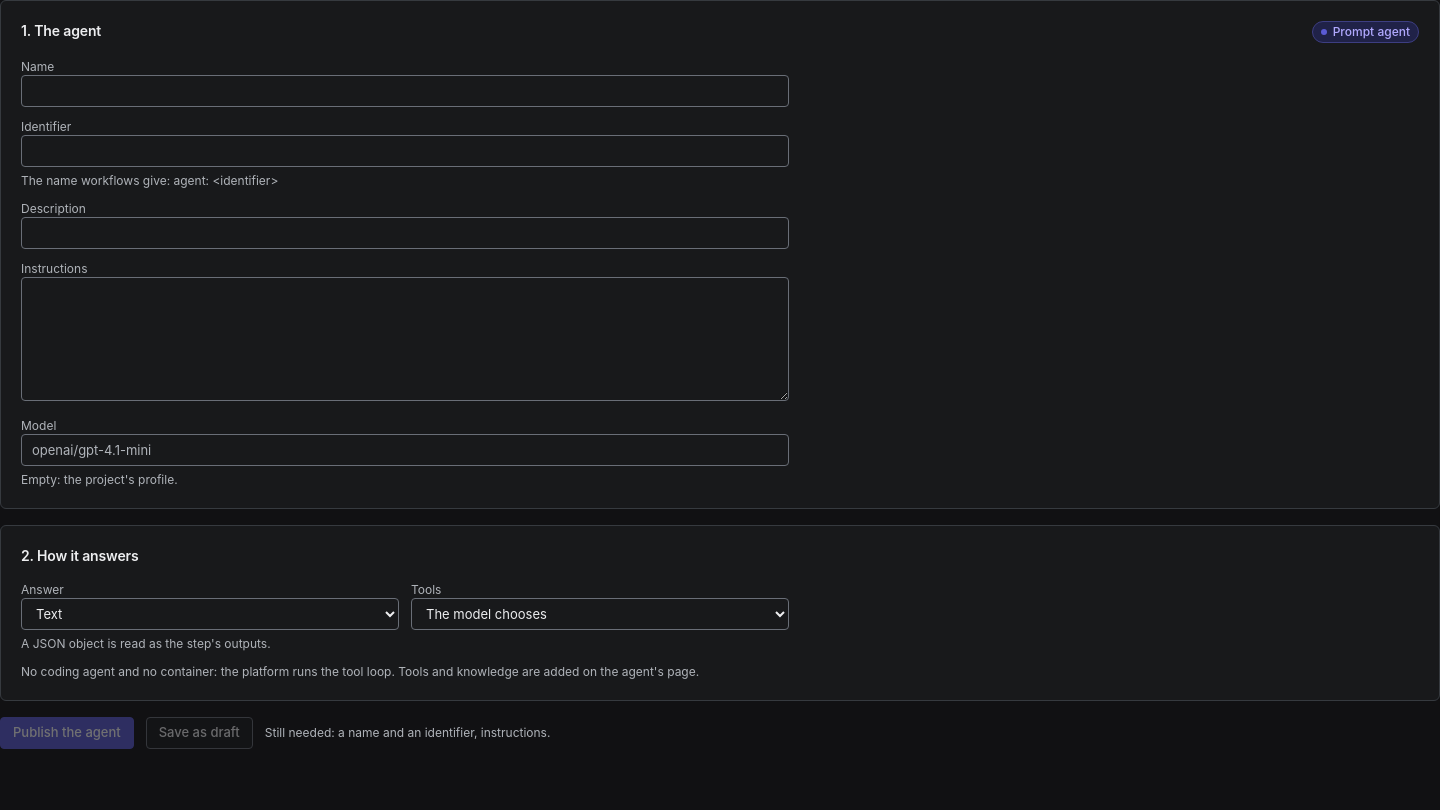
Test case: a prompt agent › a refusal stays on the page
Type "Triager" into the field labelled "Name" at (405, 91), box [21,75,789,107]
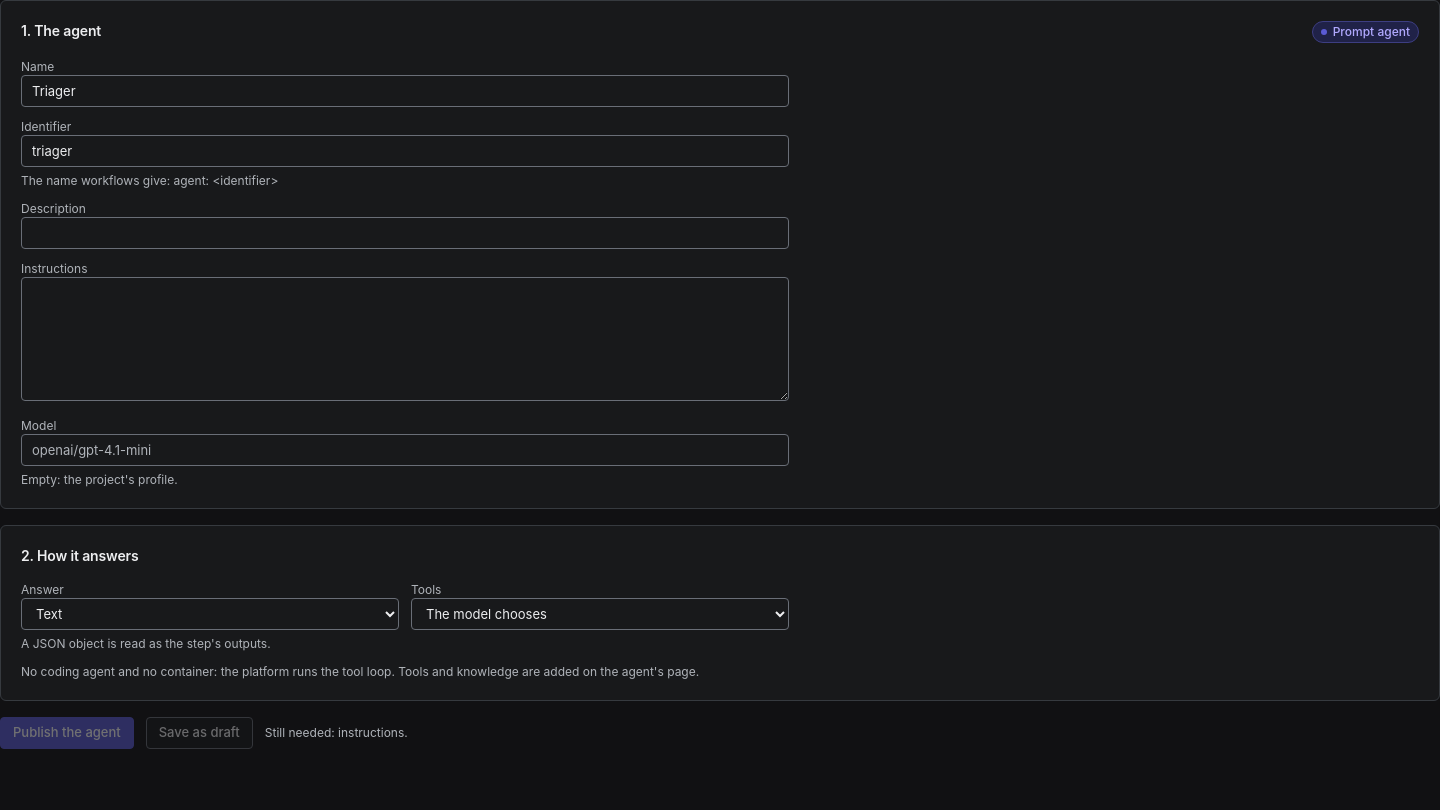
Type "Sort the incoming issues." into the text box labelled "Instructions" at (405, 339), box [21,277,789,401]
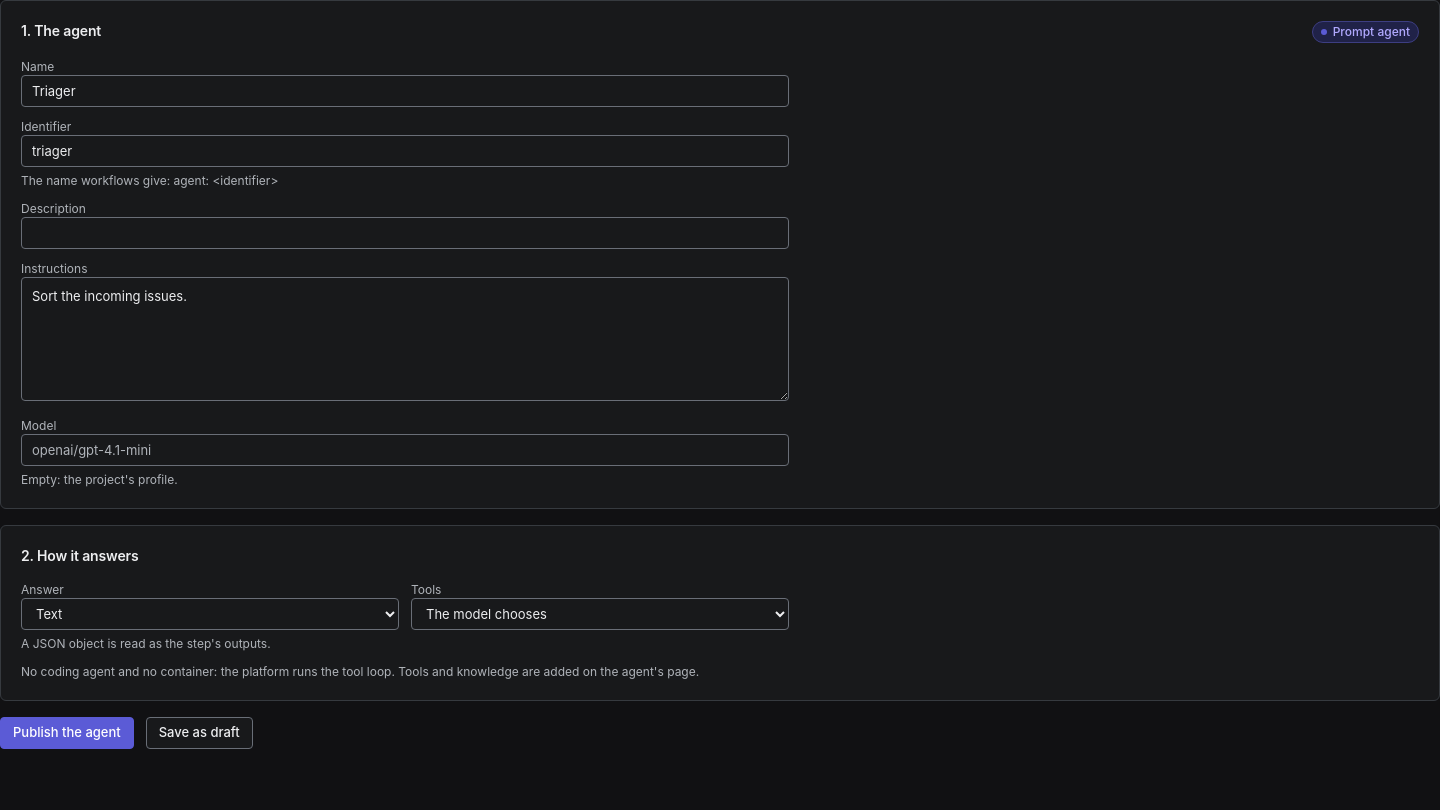
Click the button "Publish the agent" at (67, 733), box [0,717,134,749]
(page scrolled)
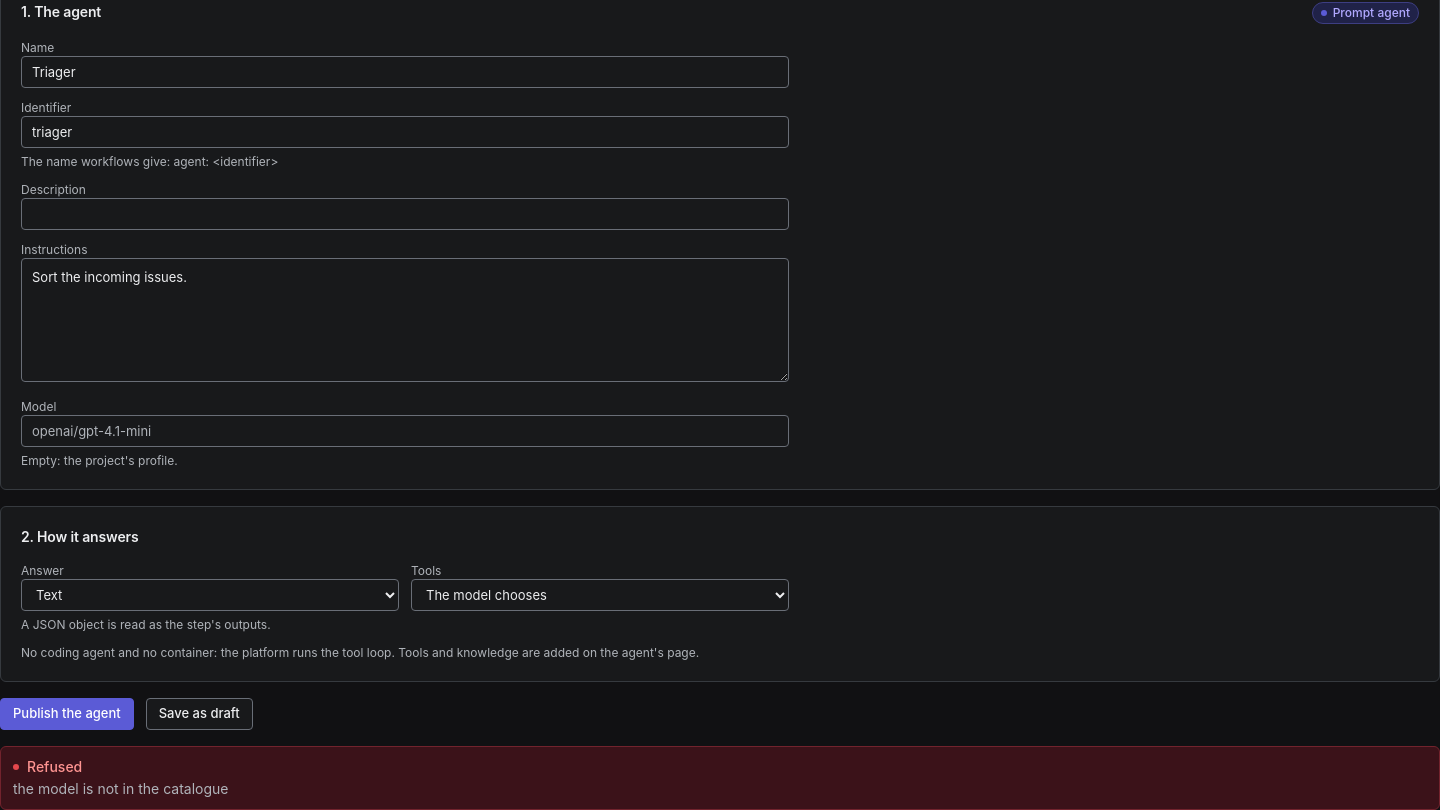
Result: the message shows "the model is not in the catalogue" at [13,780,228,797]
